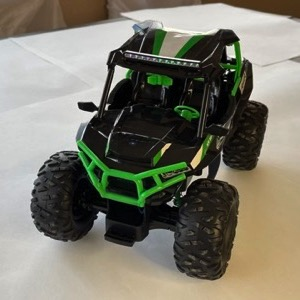polaris: (29, 21, 270, 283)
